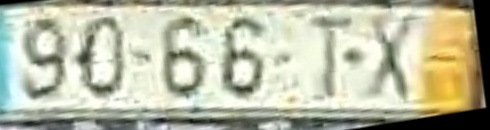0: (75, 14, 127, 102)
6: (217, 12, 271, 103), (157, 12, 210, 103)
9: (16, 13, 71, 105)
T: (308, 14, 357, 101)
X: (360, 11, 417, 105)
